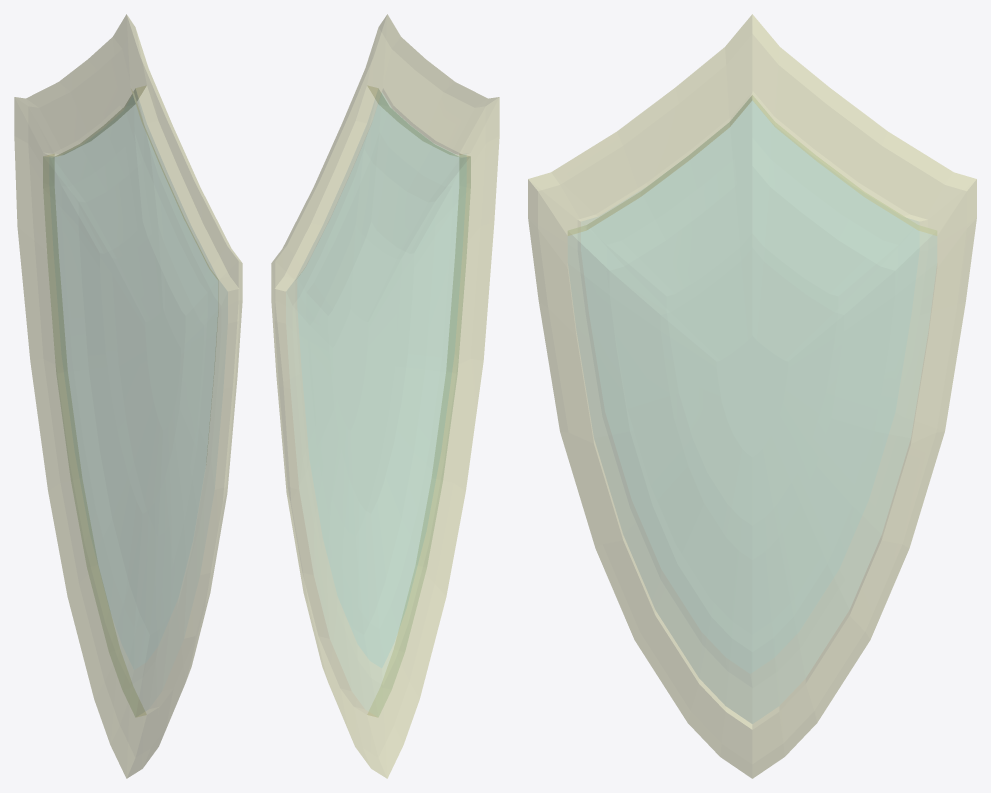
Rendered from Shield.fbx.
3 views of the same model, side by side, from view 1: azimuth 30°, elevation 25°; view 2: azimuth 150°, elevation 25°; view 3: azimuth 270°, elevation 25° (orthographic).
Parts seen in each view (by area): view 1: Cube.001; view 2: Cube.001; view 3: Cube.001.
Boxes of the visible parts, box(x1,y1,x2,y2) form: Cube.001: box(14, 14, 242, 778); Cube.001: box(271, 14, 499, 778); Cube.001: box(528, 14, 976, 778).
Size of the model in its own units: 30.14 by 563 by 300.
